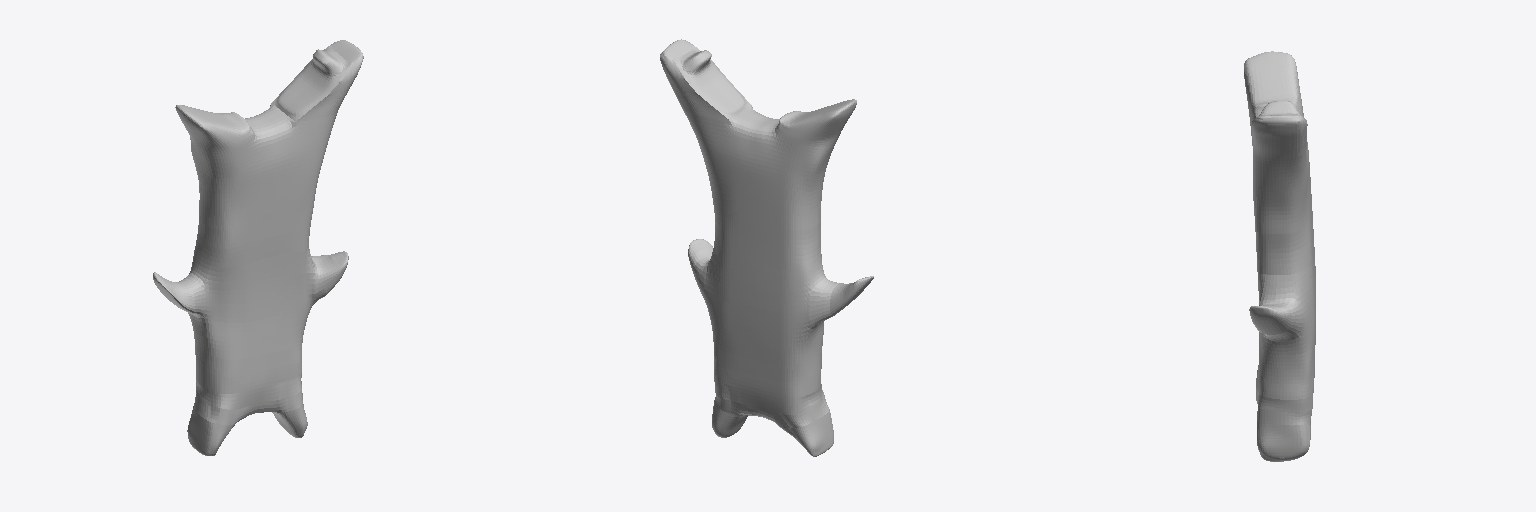
The model's file is korok9.obj.
3 renders of one model, left to right at view 1: azimuth 30°, elevation 25°; view 2: azimuth 150°, elevation 25°; view 3: azimuth 270°, elevation 25°, orthographic.
Parts seen in each view (by area): view 1: Plane; view 2: Plane; view 3: Plane.
Part boxes in pixels (left/top/right/bottom): Plane: left=153, top=40, right=363, bottom=455; Plane: left=660, top=39, right=873, bottom=456; Plane: left=1244, top=51, right=1315, bottom=461.
Size of the model in its own units: 1.02 by 1.82 by 0.3205.